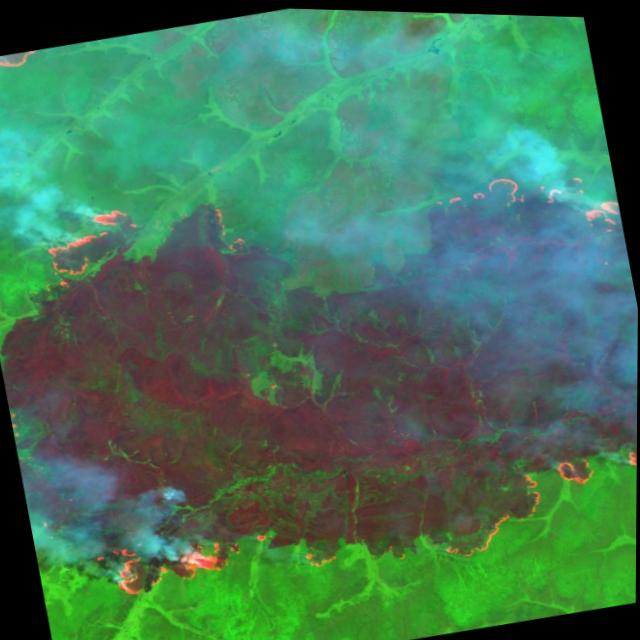fire: (424, 424, 638, 567), (421, 147, 625, 268), (74, 504, 252, 623), (14, 181, 160, 310), (0, 49, 46, 98)
